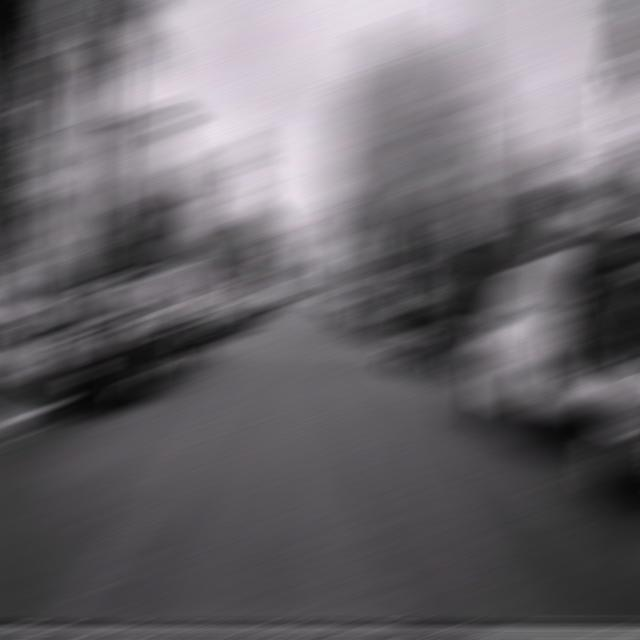speedLimit25: (452, 210, 489, 245)
